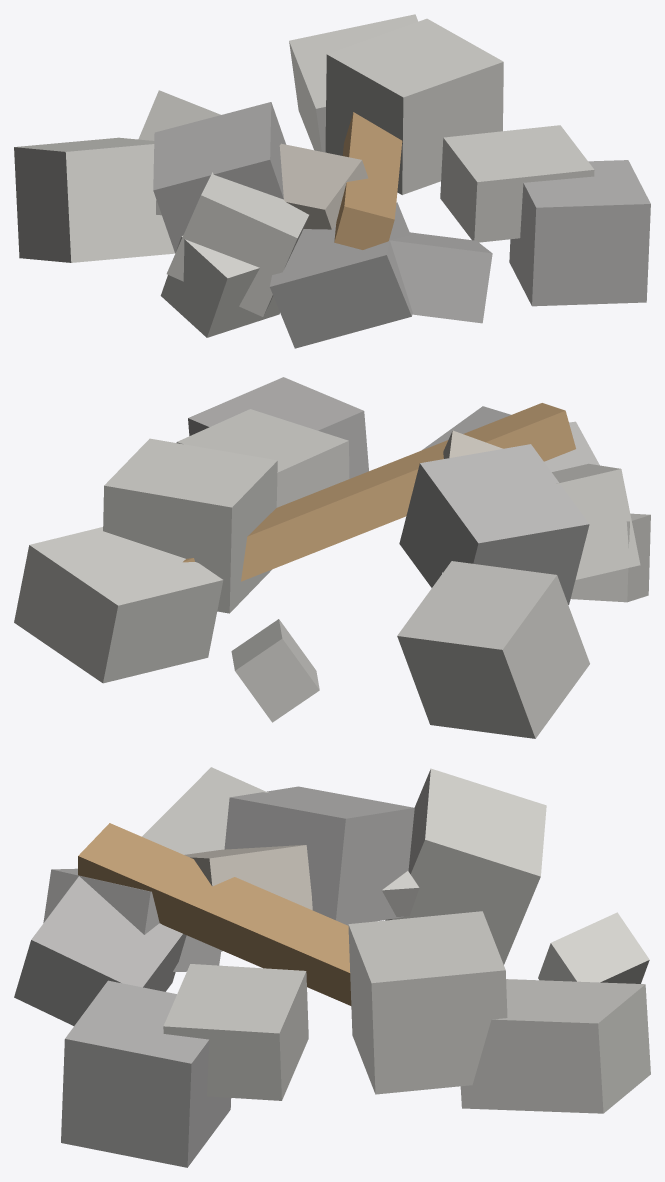
File: ws_fx_debris_2.glb
3 views of the same model, one above another, from view 1: azimuth 30°, elevation 25°; view 2: azimuth 150°, elevation 25°; view 3: azimuth 270°, elevation 25° (orthographic). The views are drawn at different scales.
Visible parts, largest first — view 1: ws_fx_debris_2; view 2: ws_fx_debris_2; view 3: ws_fx_debris_2.
Boxes of the visible parts, x1,y1,x2,y2 form: ws_fx_debris_2: (14, 14, 650, 348); ws_fx_debris_2: (14, 377, 650, 738); ws_fx_debris_2: (14, 767, 650, 1167).
Size of the model in its own units: 0.8302 by 0.3013 by 0.8718.
